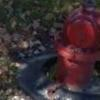a fire hydrant: (56, 11, 98, 100)
